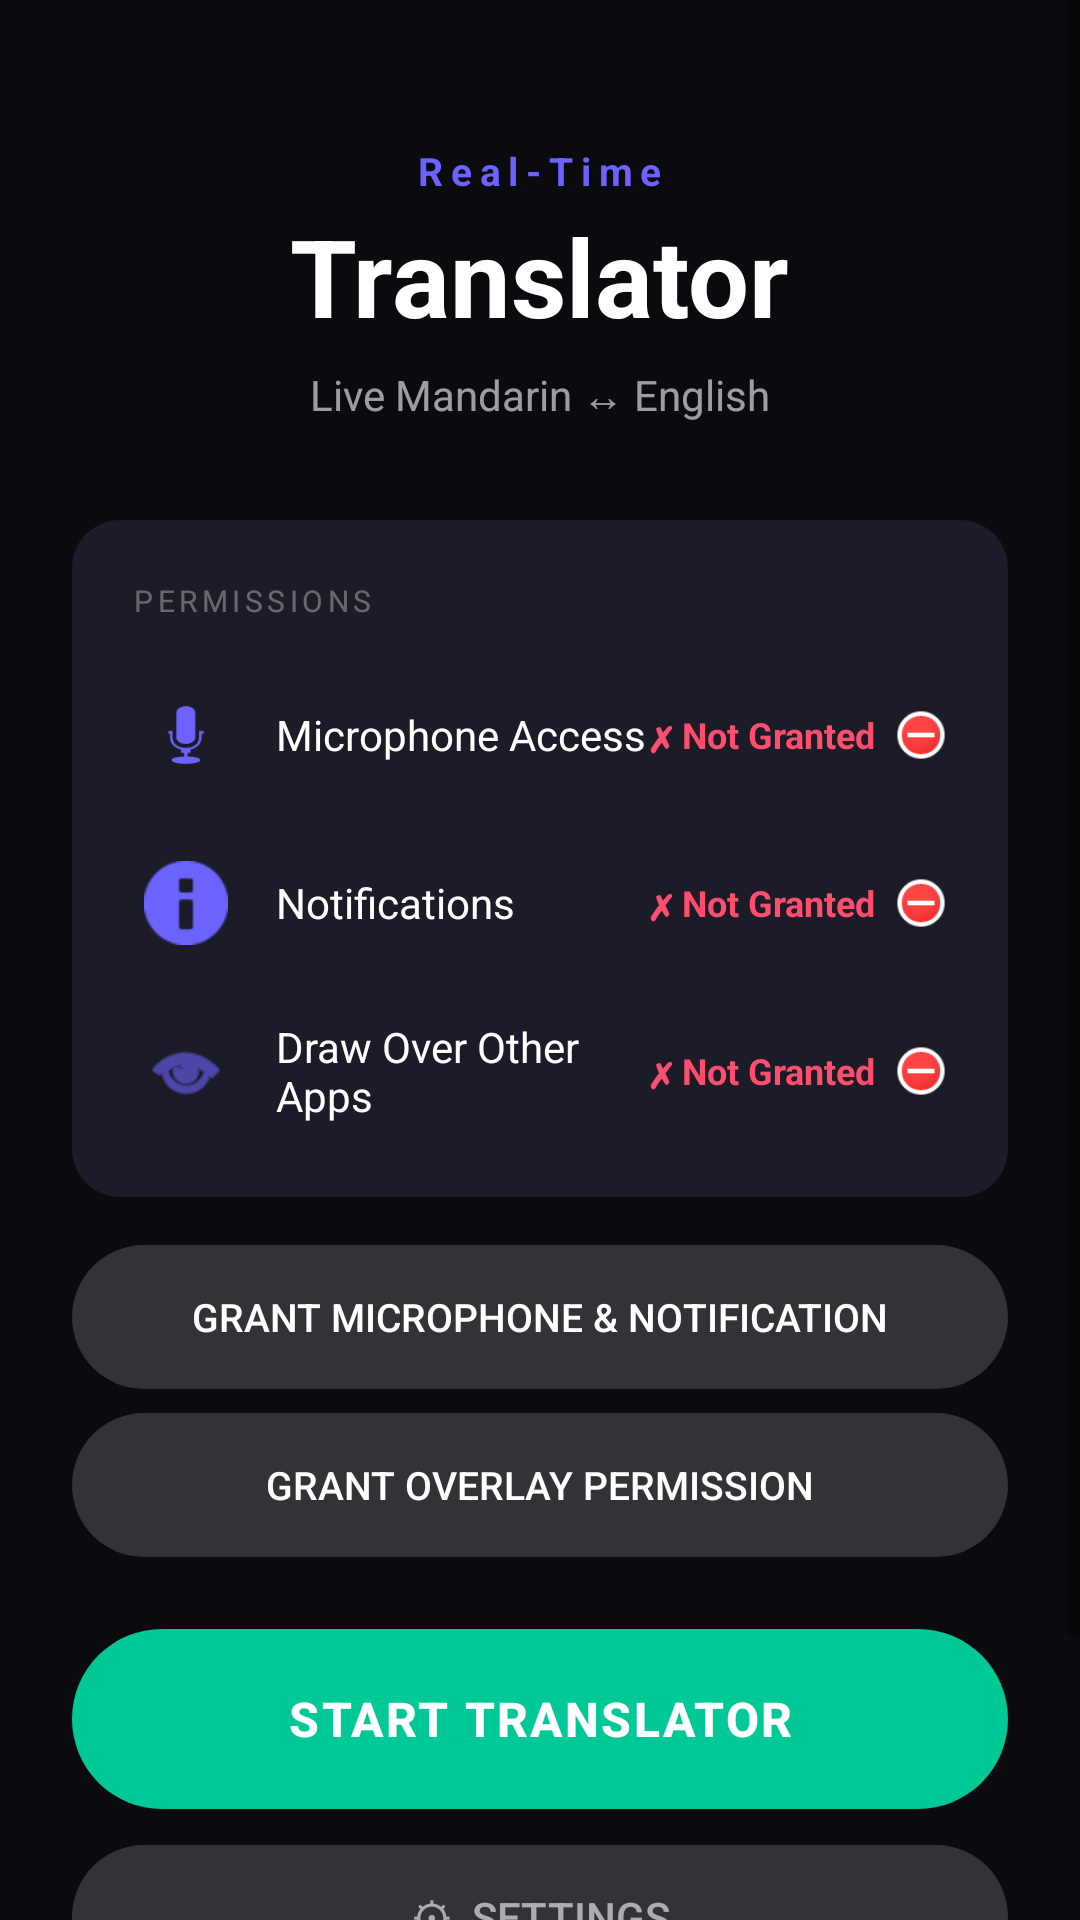

Locate icon controls on the screen. Image size 1080px x 1920px, boxes as (x1, y1, x2, y2).
info: (144, 861, 228, 945)
presence busy: (897, 711, 945, 759), (897, 879, 945, 927), (897, 1047, 945, 1095)
speak now: (167, 706, 205, 764)
view: (152, 1052, 220, 1095)
